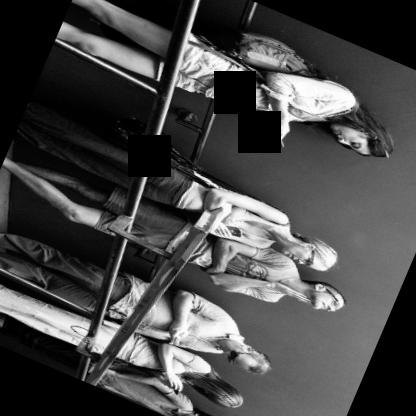backpack: (194, 31, 313, 80)
handbag: (105, 118, 292, 228), (105, 358, 153, 379)
